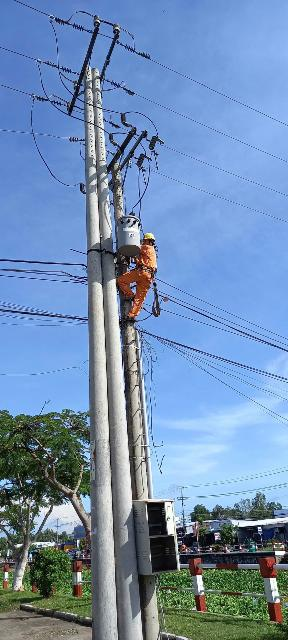gloves: (128, 251, 139, 263)
harness: (135, 261, 160, 278)
helmet: (137, 229, 159, 248)
shoes: (119, 292, 139, 302), (122, 313, 142, 323)
